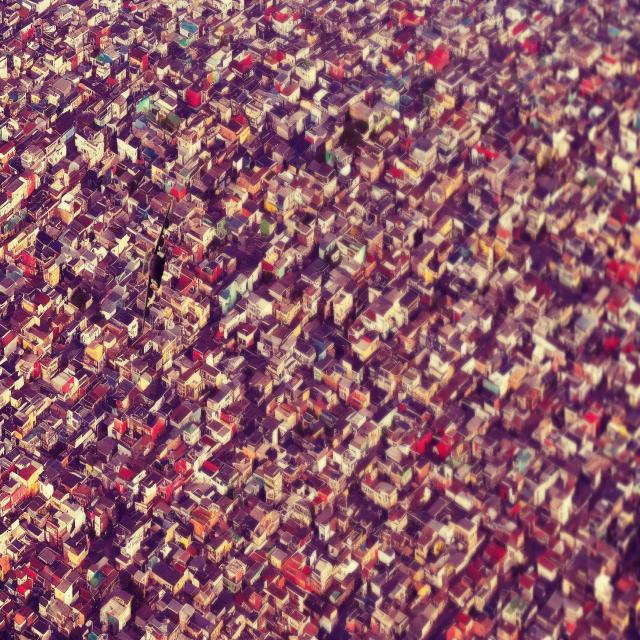airplane: (140, 198, 174, 330)
